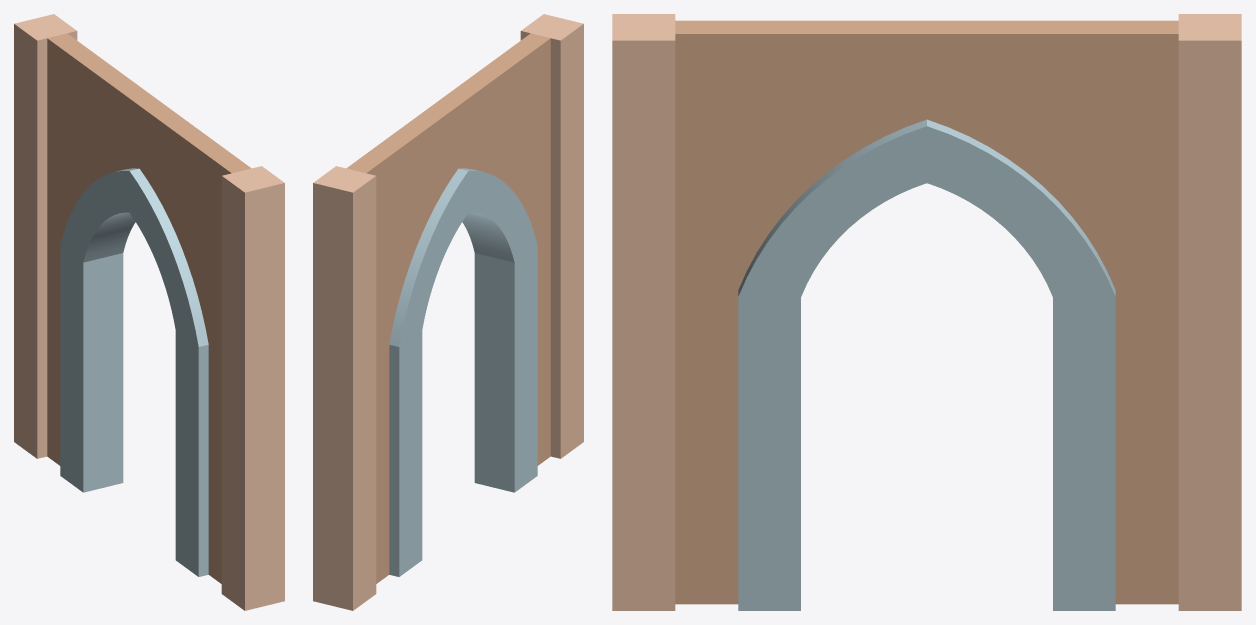
3 renders of one model, left to right at view 1: azimuth 30°, elevation 25°; view 2: azimuth 150°, elevation 25°; view 3: azimuth 270°, elevation 25°, orthographic. The views are drawn at different scales.
Visible parts, largest first — view 1: wallWoodDoorwayRound; view 2: wallWoodDoorwayRound; view 3: wallWoodDoorwayRound.
Part boxes in pixels (x1,y1,x2,y2): wallWoodDoorwayRound: (14,14,284,610); wallWoodDoorwayRound: (313,14,583,610); wallWoodDoorwayRound: (612,14,1241,610).
Bounding box in the file's own units: 0.1 × 1 × 1.
